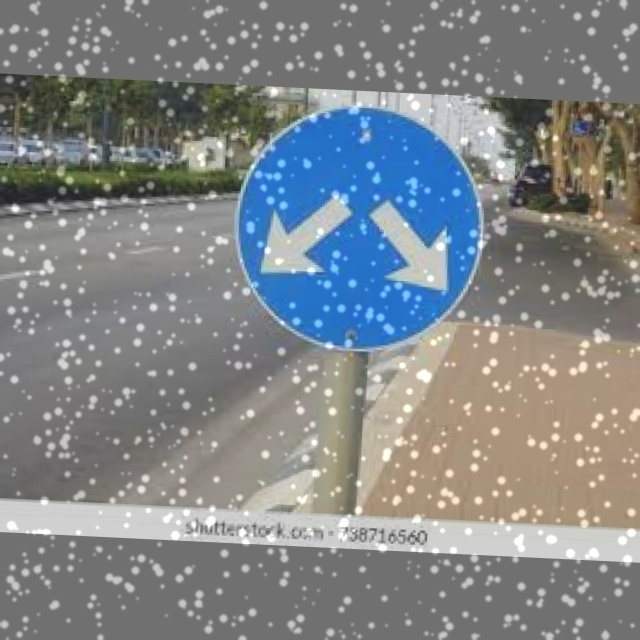Pass_Either_Side: (228, 99, 492, 357)
